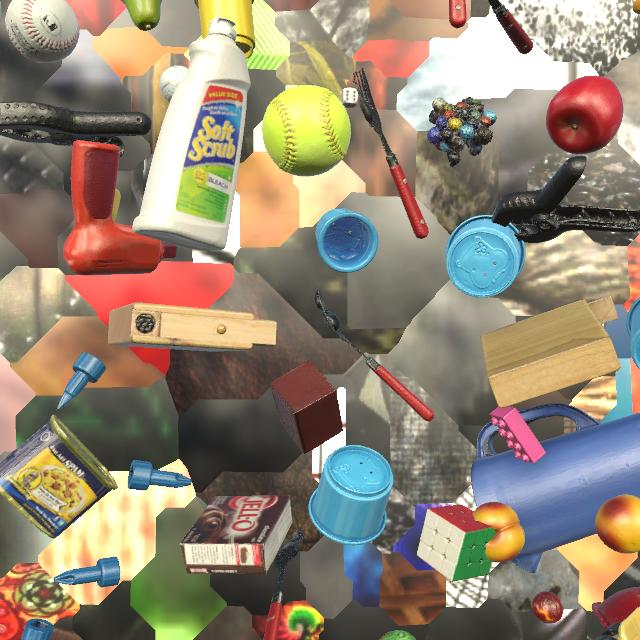ycb_008_pudding_box: (180, 495, 293, 575)
ycb_010_potted_meat_can: (0, 415, 118, 538)
ycb_011_banana: (633, 0, 640, 15)
ycb_012_strawberry: (379, 630, 416, 640)
ycb_013_apple: (546, 75, 623, 154)
ycb_015_peach: (473, 502, 525, 562), (595, 494, 640, 554)
ycb_016_pear: (120, 0, 162, 31)
